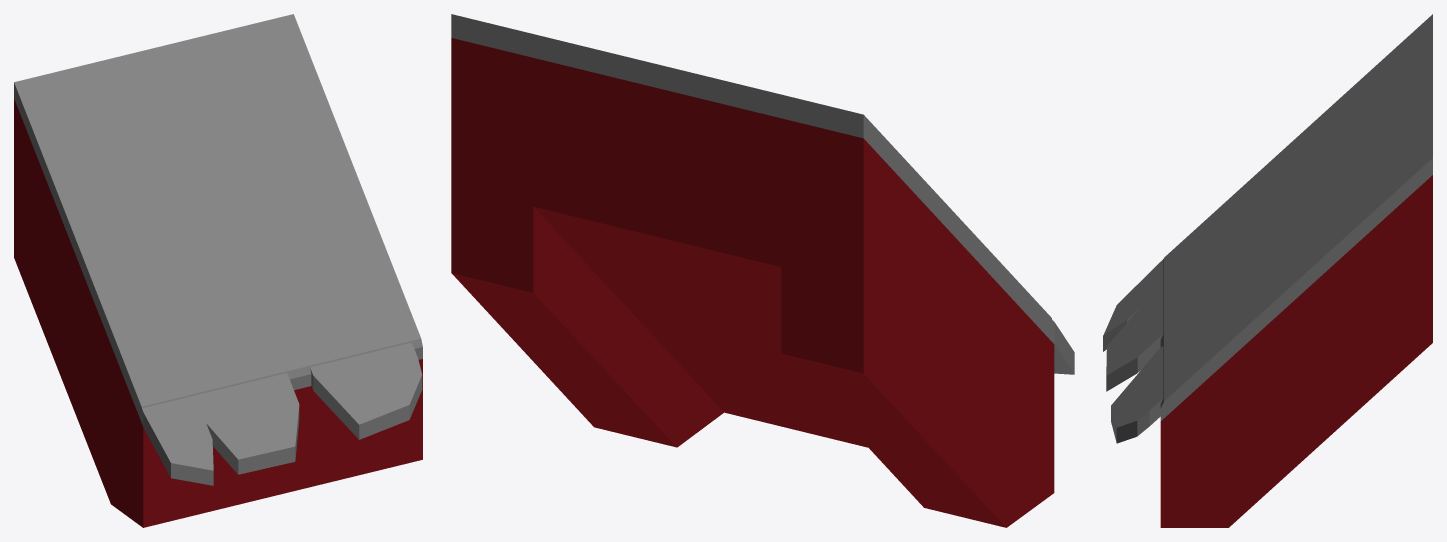
Rendered from SM_MH_01_Slate_Roof_End_Quarter_01.fbx.
The picture shows the model from 3 angles, left to right: view 1: azimuth 30°, elevation 25°; view 2: azimuth 150°, elevation 25°; view 3: azimuth 270°, elevation 25°; orthographic projection. The views are drawn at different scales.
Parts seen in each view (by area): view 1: SM_MH_01_Slate_Roof_End_Quarter_01_LOD0; view 2: SM_MH_01_Slate_Roof_End_Quarter_01_LOD0; view 3: SM_MH_01_Slate_Roof_End_Quarter_01_LOD0.
Part boxes in pixels (x1,y1,x2,y2): SM_MH_01_Slate_Roof_End_Quarter_01_LOD0: (14, 14, 422, 527); SM_MH_01_Slate_Roof_End_Quarter_01_LOD0: (451, 14, 1074, 527); SM_MH_01_Slate_Roof_End_Quarter_01_LOD0: (1103, 14, 1432, 527).
Size of what is drawn, in the model's own units: 50 by 60 by 48.46.
